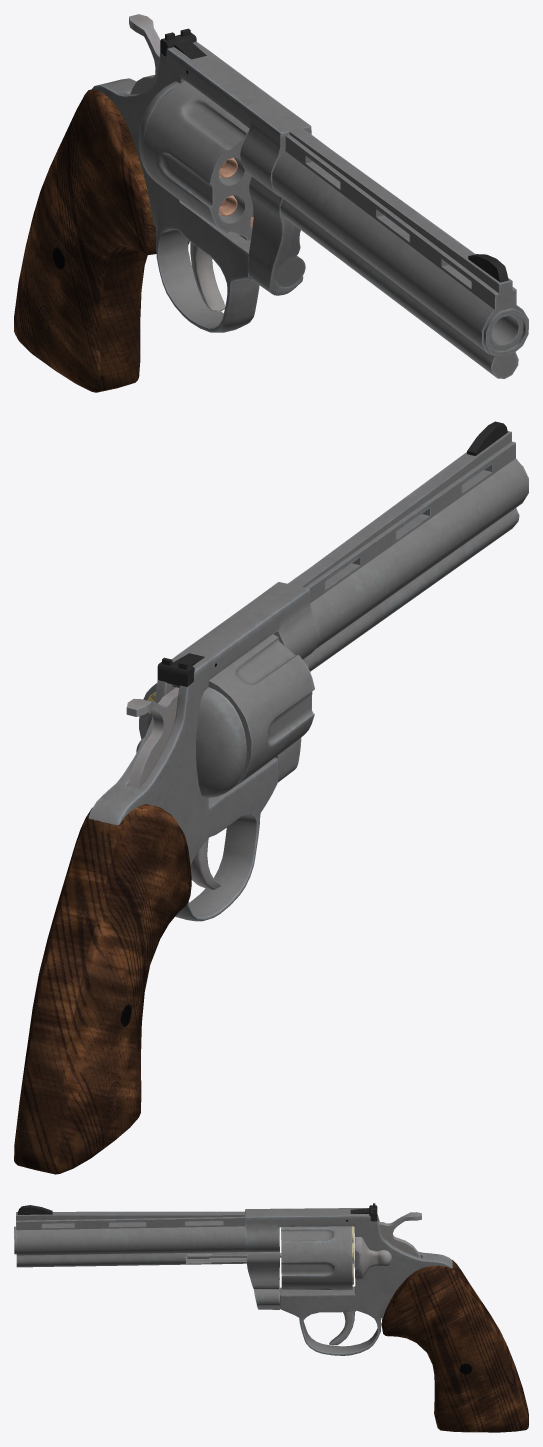
Rendered from python-erai.glb.
3 views of the same model, one above another, from view 1: azimuth 30°, elevation 25°; view 2: azimuth 150°, elevation 25°; view 3: azimuth 270°, elevation 25° (orthographic). The views are drawn at different scales.
Parts seen in each view (by area): view 1: Object_15, Cylinder, Trigger, Hammer; view 2: Object_15, Cylinder, Hammer; view 3: Object_15, Cylinder, Hammer, Trigger.
Part boxes in pixels (<box>): Object_15: <box>14,28,528,392</box>; Cylinder: <box>143,81,305,287</box>; Trigger: <box>190,242,225,312</box>; Hammer: <box>129,14,160,94</box>; Object_15: <box>14,421,528,1174</box>; Cylinder: <box>139,634,314,789</box>; Hammer: <box>126,687,179,787</box>; Object_15: <box>14,1203,528,1432</box>; Cylinder: <box>187,1226,354,1306</box>; Hammer: <box>378,1212,421,1257</box>; Trigger: <box>329,1310,355,1345</box>.
Bounding box in the file's own units: 0.1186 × 0.4109 × 0.8651.
Materials: 2 (2 with a texture image).
